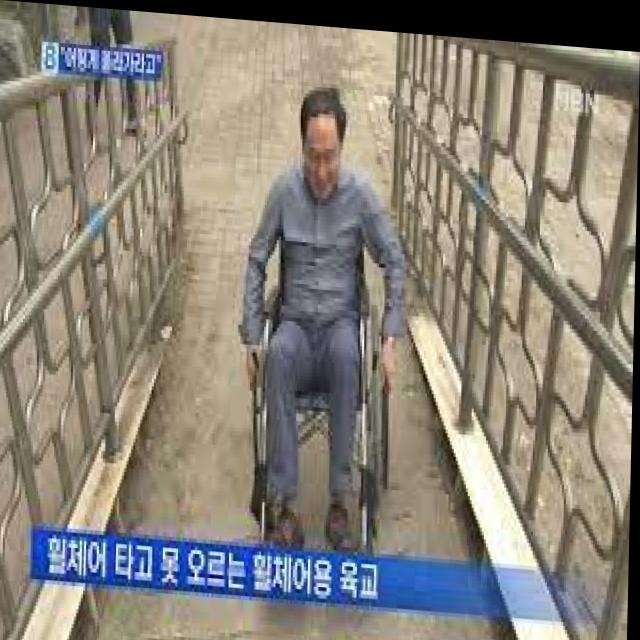wheelchair: (237, 75, 408, 542)
